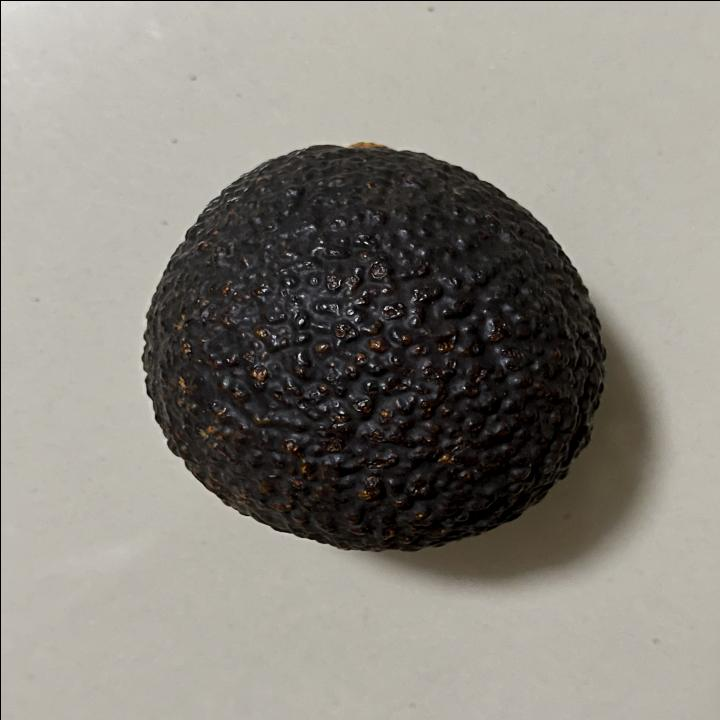Level2: (128, 128, 616, 558)
